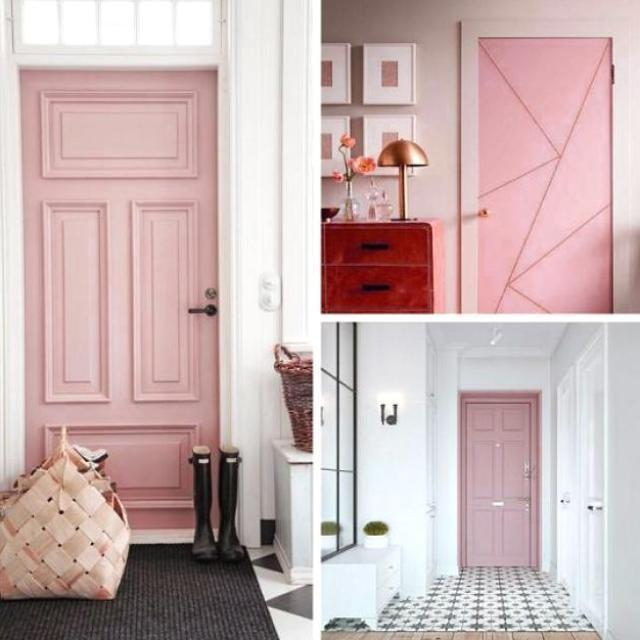door: (19, 66, 220, 529), (474, 30, 618, 317), (459, 390, 539, 569)
